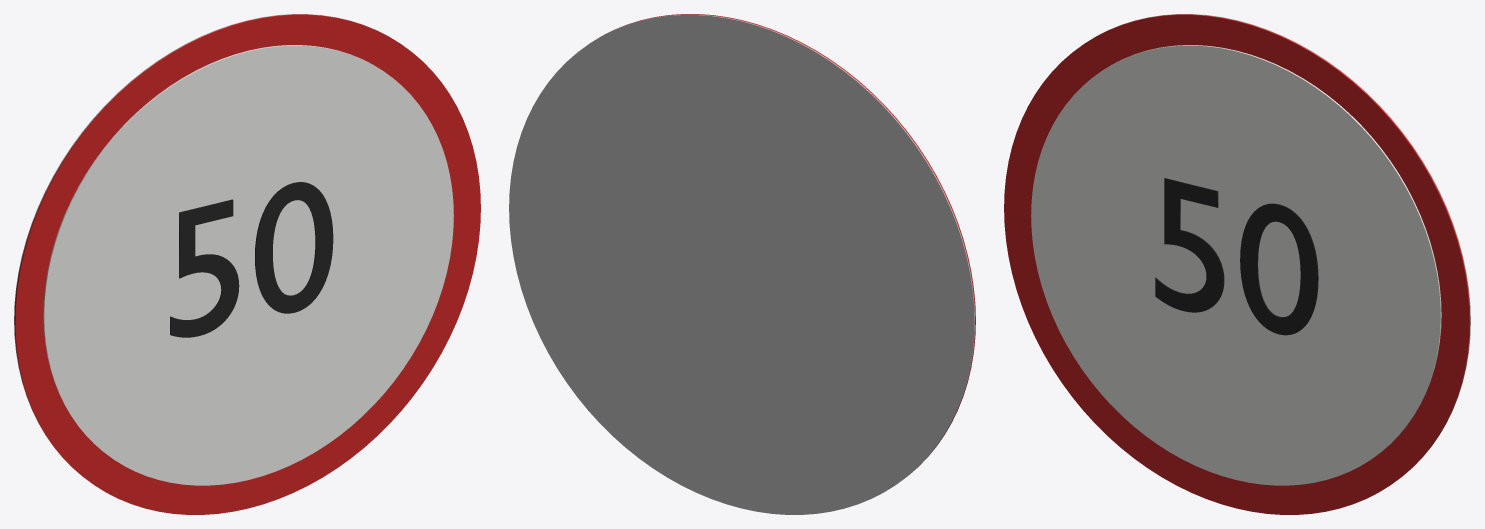
3 renders of one model, left to right at view 1: azimuth 30°, elevation 25°; view 2: azimuth 150°, elevation 25°; view 3: azimuth 330°, elevation 25°, orthographic.
Parts seen in each view (by area): view 1: B14_50_fond, B14_50_bord, B14_50_picto0, B14_50_dos; view 2: B14_50_dos, B14_50_bord; view 3: B14_50_fond, B14_50_bord, B14_50_picto0, B14_50_dos.
Boxes of the visible parts, x1,y1,x2,y2 form: B14_50_fond: (43,45,453,485); B14_50_bord: (14,14,480,514); B14_50_picto0: (170,182,333,337); B14_50_dos: (14,14,385,474); B14_50_dos: (509,14,974,514); B14_50_bord: (601,14,975,474); B14_50_fond: (1031,45,1441,485); B14_50_bord: (1004,14,1470,514); B14_50_picto0: (1155,178,1318,335); B14_50_dos: (1099,14,1470,474).
Bounding box in the file's own units: 0.65 × 0.65 × 0.0083.
